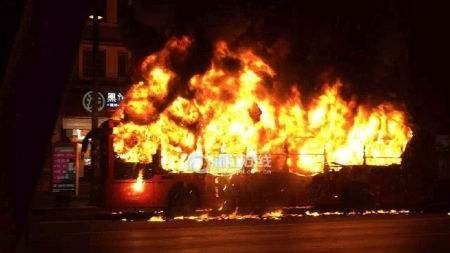fire: (118, 36, 410, 202)
